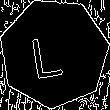L_N: (35, 26, 73, 80)
